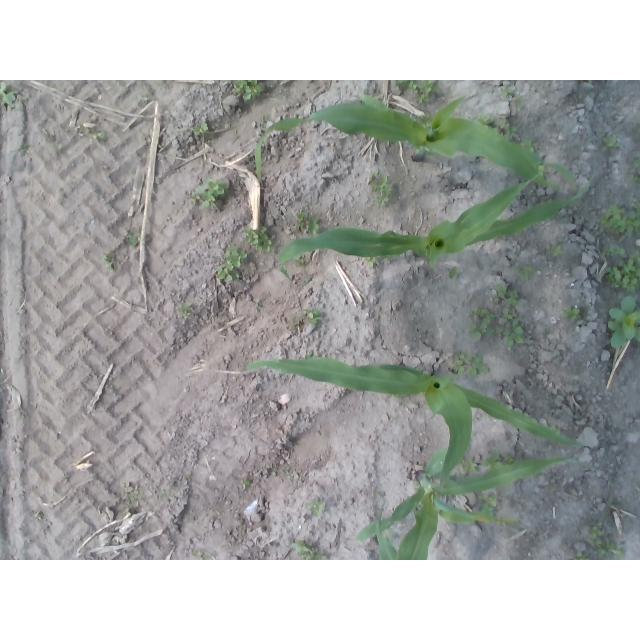Maize: (246, 355, 583, 490), (279, 163, 594, 283), (256, 92, 560, 193), (357, 456, 595, 561), (376, 501, 409, 560)
Weeds: (470, 306, 526, 346), (606, 296, 640, 349), (604, 249, 640, 292), (599, 199, 640, 236), (584, 522, 625, 559), (190, 177, 227, 211), (449, 351, 491, 378), (216, 247, 248, 282), (396, 80, 441, 104), (243, 227, 277, 254), (369, 172, 393, 208), (489, 283, 520, 309), (289, 540, 327, 560), (498, 84, 526, 109), (232, 80, 265, 101), (294, 209, 319, 235), (481, 451, 516, 469), (476, 494, 500, 518), (0, 81, 18, 112), (493, 116, 516, 140), (77, 123, 107, 139), (299, 308, 324, 324), (457, 457, 477, 475), (125, 226, 143, 246), (176, 302, 195, 319), (600, 134, 620, 150), (562, 307, 583, 322), (514, 264, 532, 281), (310, 500, 327, 517), (601, 244, 625, 256), (474, 113, 494, 126), (101, 253, 115, 271), (547, 244, 565, 257), (521, 138, 536, 153), (532, 163, 548, 177), (193, 121, 209, 135), (362, 255, 378, 267), (570, 552, 590, 561), (293, 252, 305, 266), (127, 490, 139, 503), (446, 266, 458, 278), (630, 175, 640, 186), (20, 142, 29, 154), (632, 156, 640, 168), (192, 551, 205, 557), (242, 479, 250, 488), (261, 115, 268, 125), (141, 97, 150, 104)
